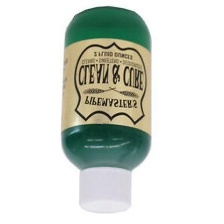cleaning_solution: (57, 2, 156, 215)
